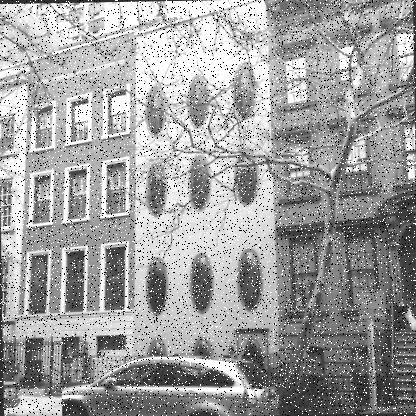Car: (60, 353, 283, 415), (3, 356, 22, 413)
